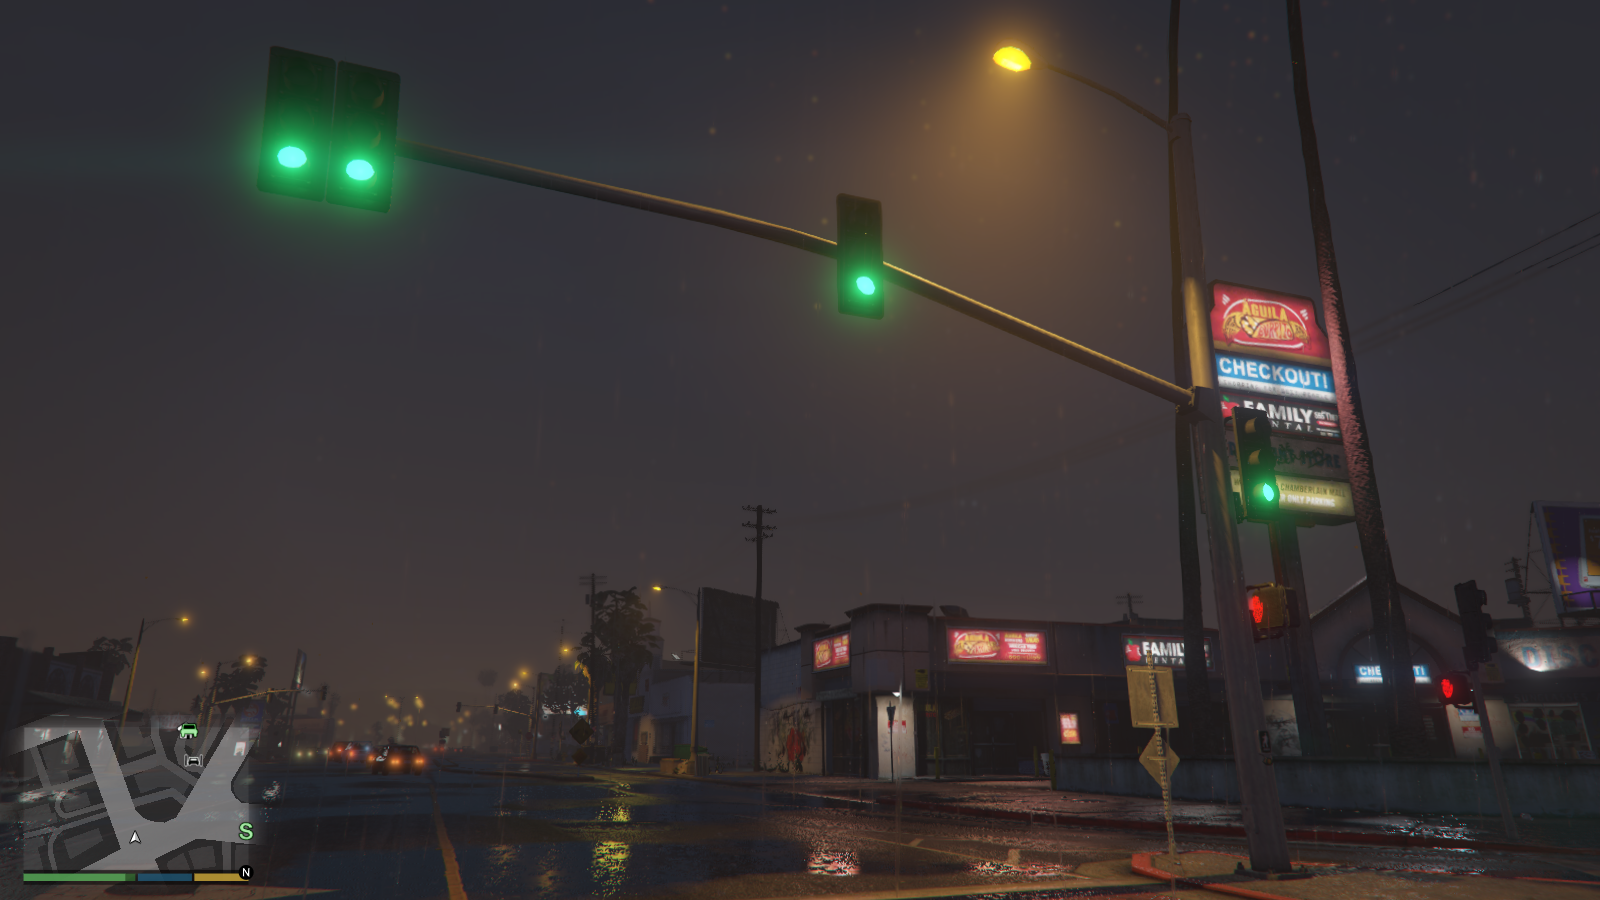green: (254, 41, 407, 220), (833, 190, 887, 319), (1232, 407, 1287, 522)
